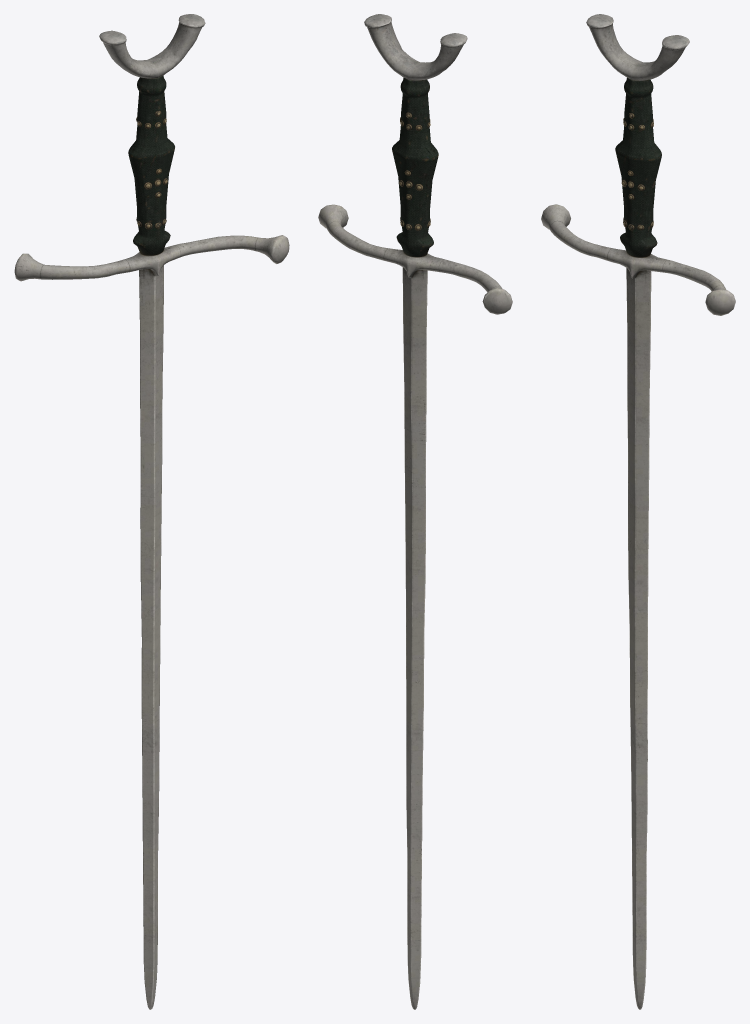
The model's file is sword-estoc.glb.
The picture shows the model from 3 angles, left to right: view 1: azimuth 30°, elevation 25°; view 2: azimuth 150°, elevation 25°; view 3: azimuth 330°, elevation 25°; orthographic projection.
Parts seen in each view (by area): view 1: antique_estoc; view 2: antique_estoc; view 3: antique_estoc.
Part boxes in pixels (box(x1,y1,x2,y2)): antique_estoc: box(14, 14, 289, 1009); antique_estoc: box(318, 14, 512, 1009); antique_estoc: box(541, 14, 735, 1009).
Size of the model in its own units: 0.3715 by 1.49 by 0.1491.
Materials: 1 (1 with a texture image).
